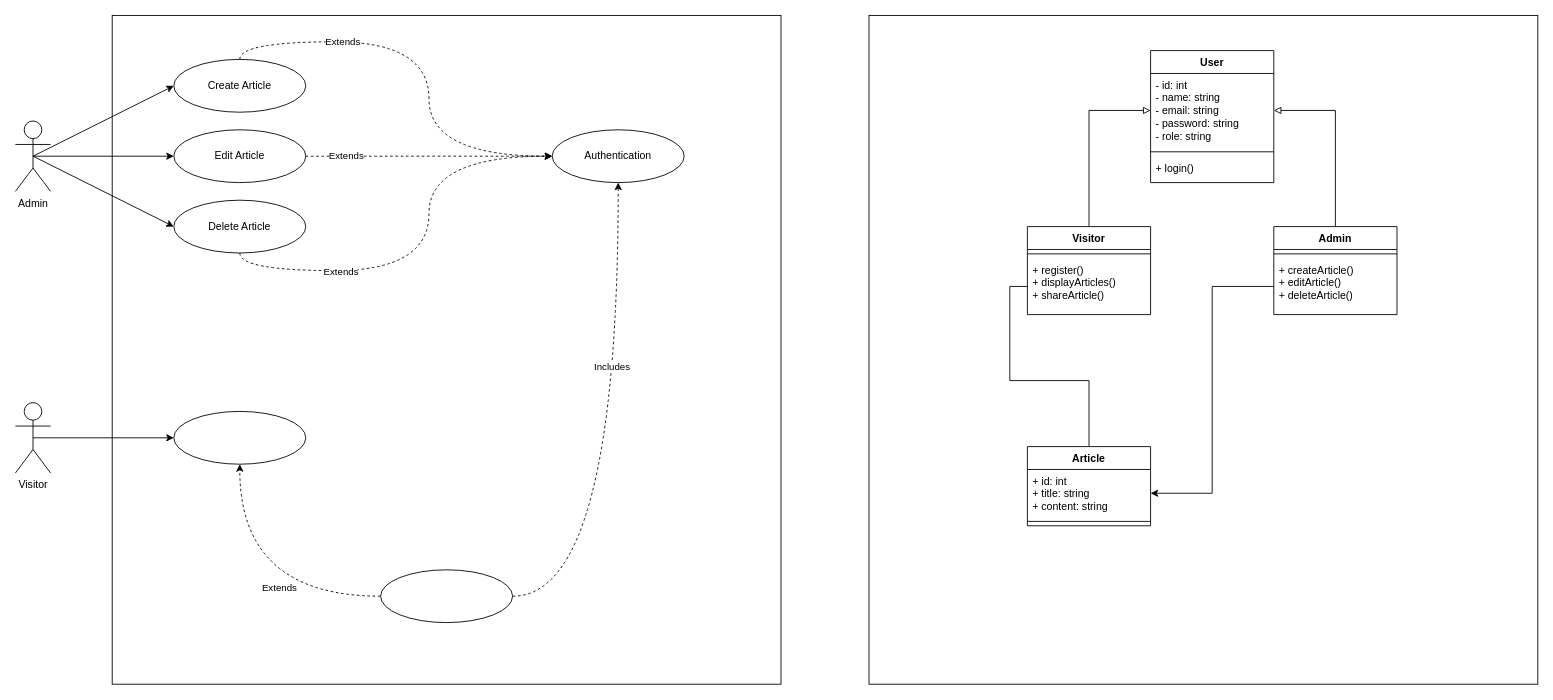
Some shapes in this 1553 by 700 pixel diagram are drawn without their labels. Each missing label, with the centre of its shape:
"Create Acount" belongs at [446,596].
"Read Articles" belongs at [239,437].
